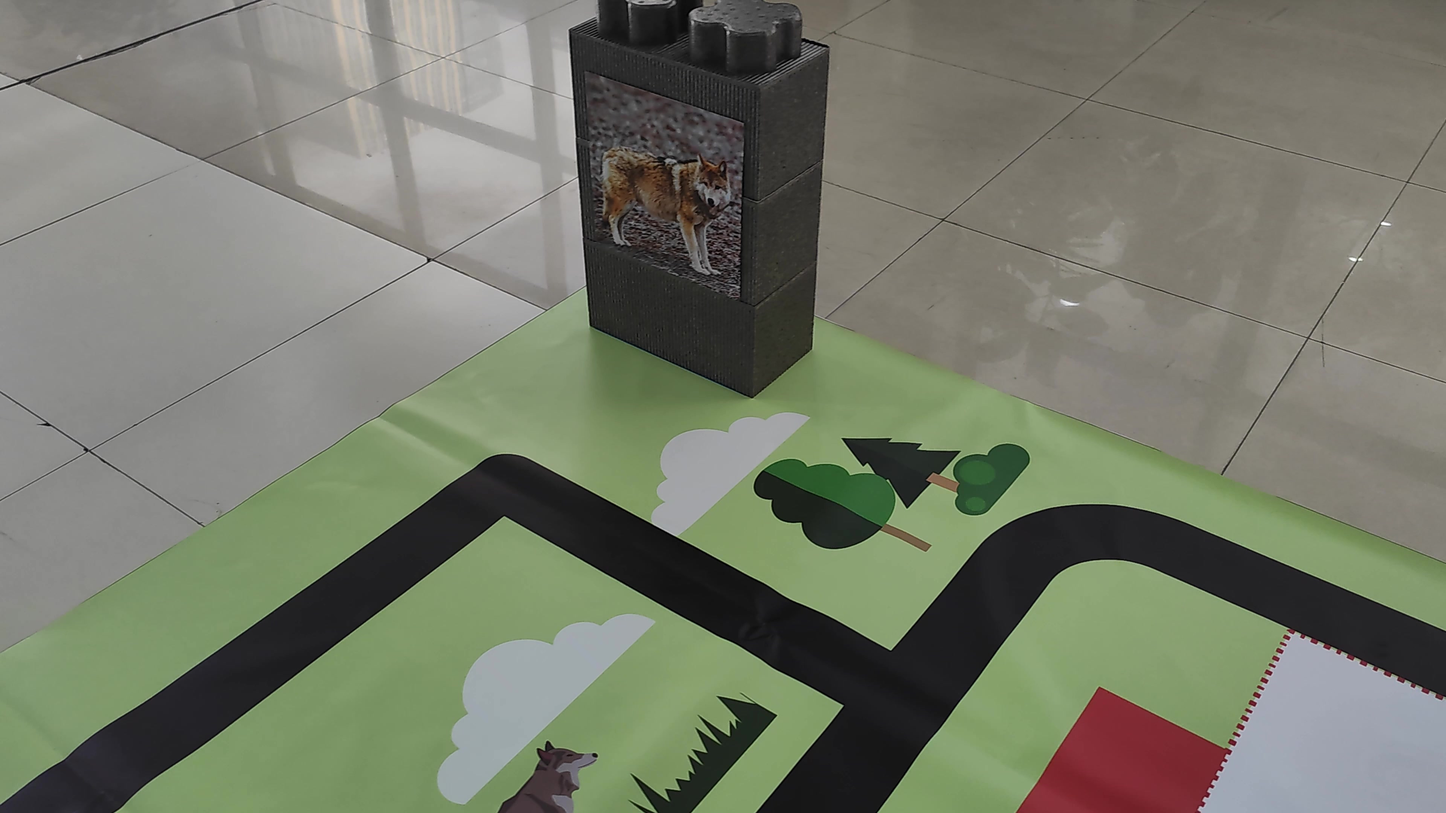wolf: (586, 123, 739, 275)
